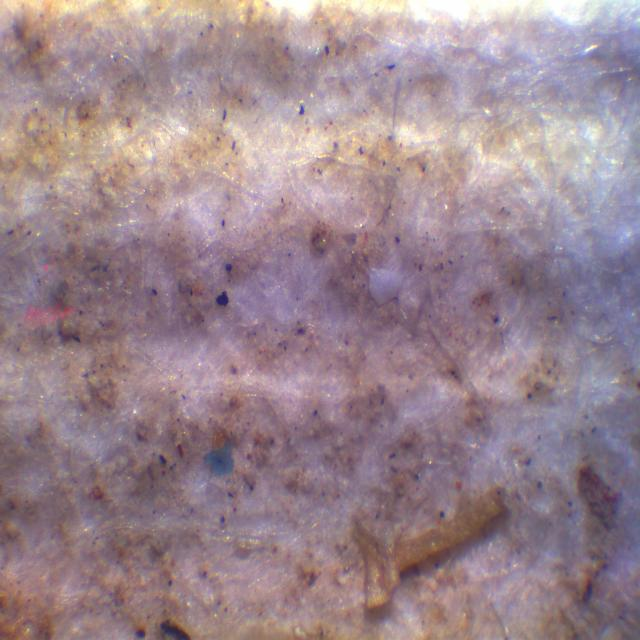microplastic: (368, 266, 407, 310), (204, 445, 236, 478)
